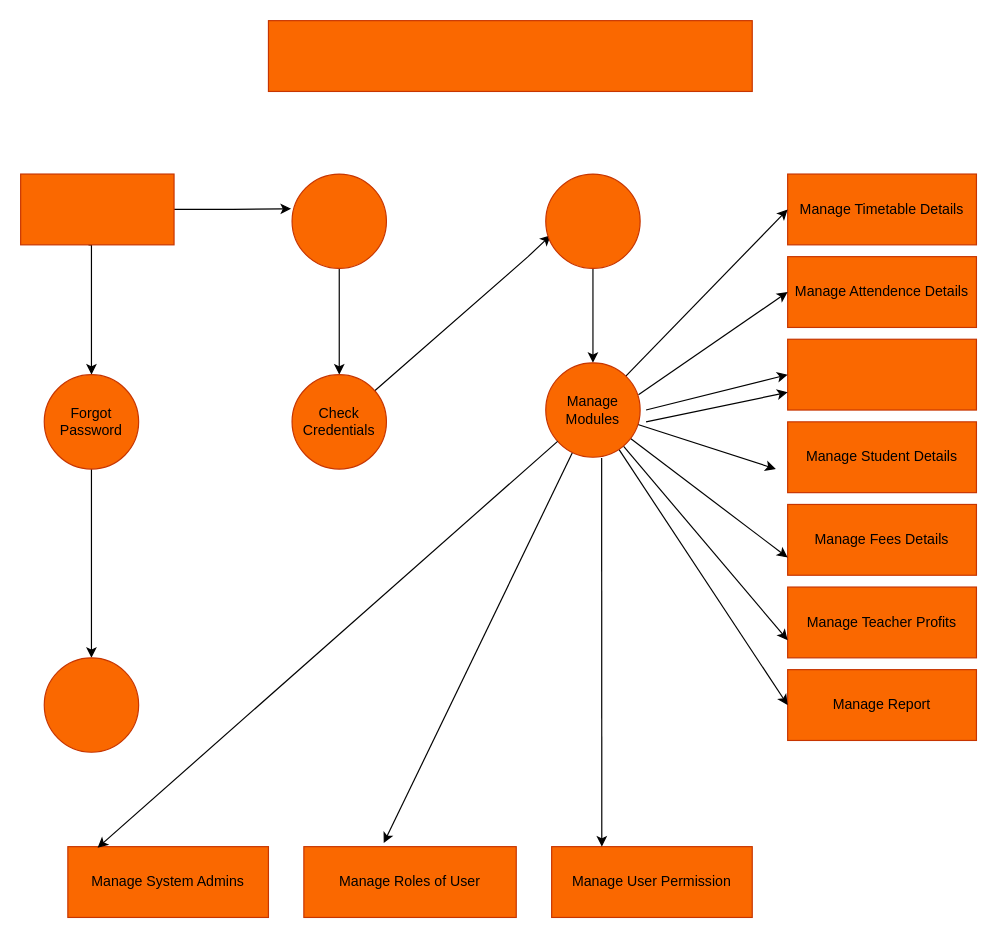
Some shapes in this 997 by 938 pixel diagram are drawn without their labels. Each missing label, with the centre of its shape:
Admin: point (96, 209)
Check Roles of Access: point (592, 220)
Login to System: point (338, 220)
Manage Class Details: point (881, 374)
Send Email to User: point (91, 704)
Student Information System: point (509, 55)
